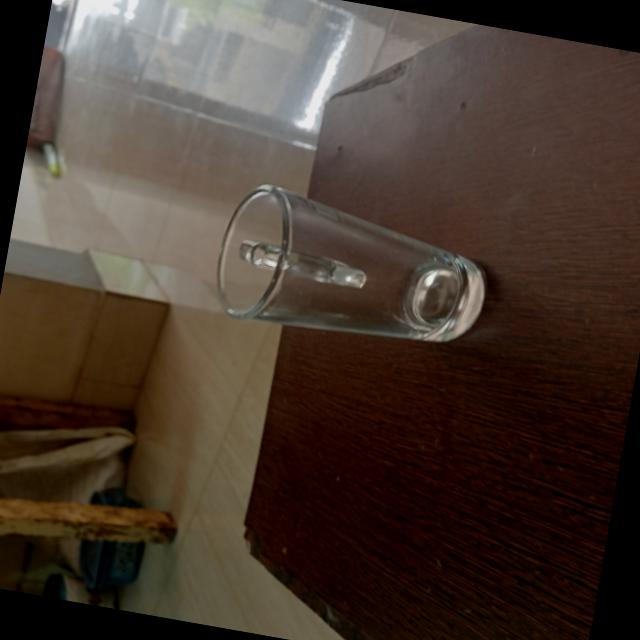glass-VX4N: (202, 176, 502, 364)
